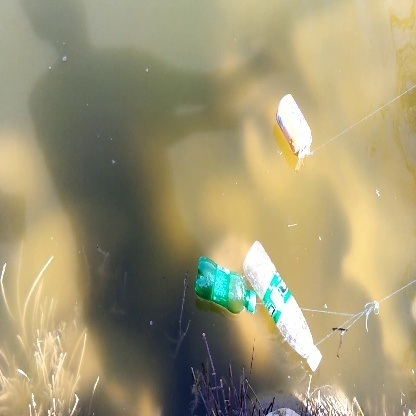bottle: (240, 237, 330, 372), (273, 91, 318, 163)
